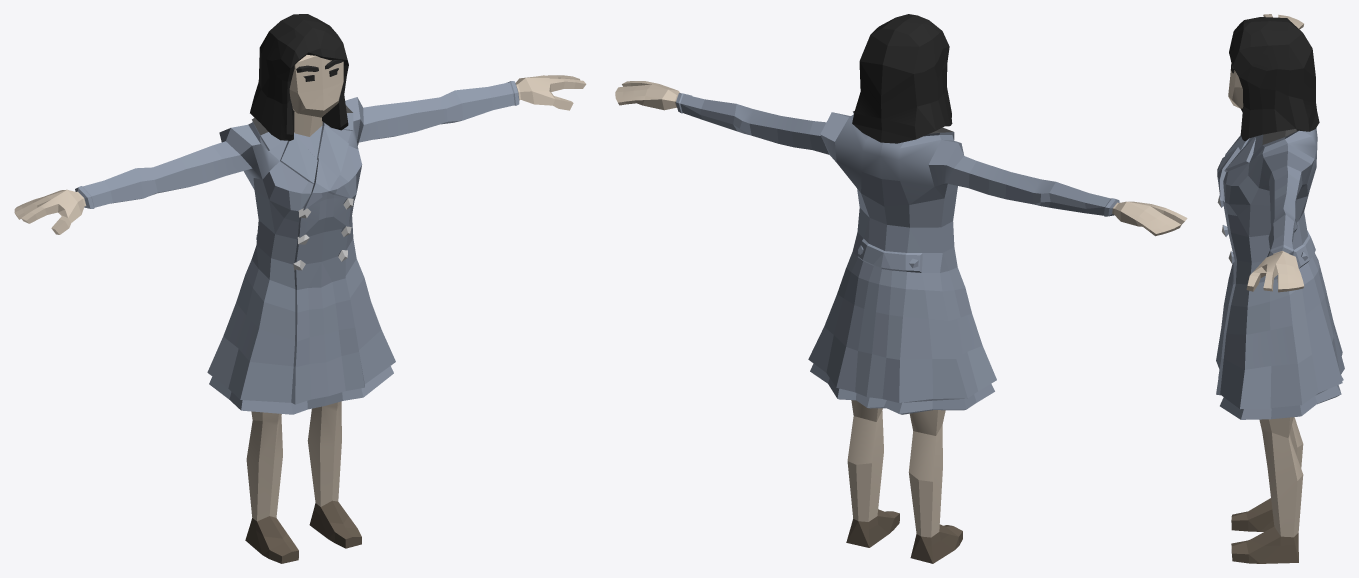
Rendered from adult_1.fbx.
3 renders of one model, left to right at view 1: azimuth 30°, elevation 25°; view 2: azimuth 150°, elevation 25°; view 3: azimuth 270°, elevation 25°, orthographic.
Parts seen in each view (by area): view 1: polySurface81; view 2: polySurface81; view 3: polySurface81.
Boxes of the visible parts, x1,y1,x2,y2 form: polySurface81: (14, 14, 586, 563); polySurface81: (615, 14, 1187, 563); polySurface81: (1216, 14, 1344, 563).
Size of the model in its own units: 14.53 by 2.88 by 12.84.
